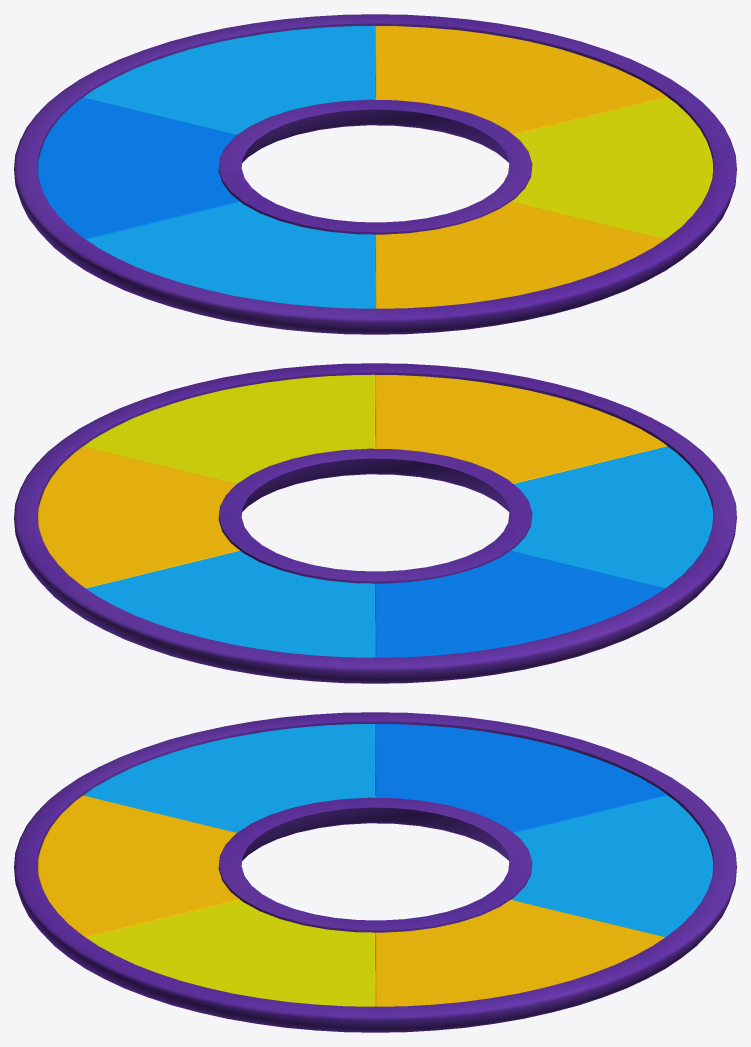
Rendered from JumpClubStage.fbx.
The picture shows the model from 3 angles, top to bottom: view 1: azimuth 30°, elevation 25°; view 2: azimuth 150°, elevation 25°; view 3: azimuth 270°, elevation 25°; orthographic projection.
Visible parts, largest first — view 1: Combined_Mesh__root__scene__2_124, Combined_Mesh__root__scene__3, Combined_Mesh__root__scene__2_111, Combined_Mesh__root__scene__10, Combined_Mesh__root__scene__2_112, Combined_Mesh__root__scene__2, Combined_Mesh__root__scene__0; view 2: Combined_Mesh__root__scene__2_124, Combined_Mesh__root__scene__2_112, Combined_Mesh__root__scene__0, Combined_Mesh__root__scene__2_111, Combined_Mesh__root__scene__2, Combined_Mesh__root__scene__3, Combined_Mesh__root__scene__10; view 3: Combined_Mesh__root__scene__2_124, Combined_Mesh__root__scene__2, Combined_Mesh__root__scene__10, Combined_Mesh__root__scene__0, Combined_Mesh__root__scene__3, Combined_Mesh__root__scene__2_112, Combined_Mesh__root__scene__2_111.
Part boxes in pixels (x1,y1,x2,y2): Combined_Mesh__root__scene__2_124: (14, 14, 736, 334); Combined_Mesh__root__scene__3: (38, 97, 239, 239); Combined_Mesh__root__scene__2_111: (511, 97, 712, 239); Combined_Mesh__root__scene__10: (83, 25, 375, 134); Combined_Mesh__root__scene__2_112: (375, 26, 667, 134); Combined_Mesh__root__scene__2: (375, 201, 664, 308); Combined_Mesh__root__scene__0: (86, 201, 375, 308); Combined_Mesh__root__scene__2_124: (14, 363, 736, 683); Combined_Mesh__root__scene__2_112: (38, 446, 239, 588); Combined_Mesh__root__scene__0: (511, 446, 712, 588); Combined_Mesh__root__scene__2_111: (83, 374, 375, 483); Combined_Mesh__root__scene__2: (375, 375, 667, 483); Combined_Mesh__root__scene__3: (375, 550, 664, 657); Combined_Mesh__root__scene__10: (86, 550, 375, 657); Combined_Mesh__root__scene__2_124: (14, 712, 736, 1032); Combined_Mesh__root__scene__2: (38, 795, 239, 937); Combined_Mesh__root__scene__10: (511, 795, 712, 937); Combined_Mesh__root__scene__0: (83, 724, 375, 832); Combined_Mesh__root__scene__3: (375, 724, 667, 832); Combined_Mesh__root__scene__2_112: (375, 899, 664, 1006); Combined_Mesh__root__scene__2_111: (86, 899, 375, 1006).
Size of the model in its own units: 110 by 3.74 by 110.
